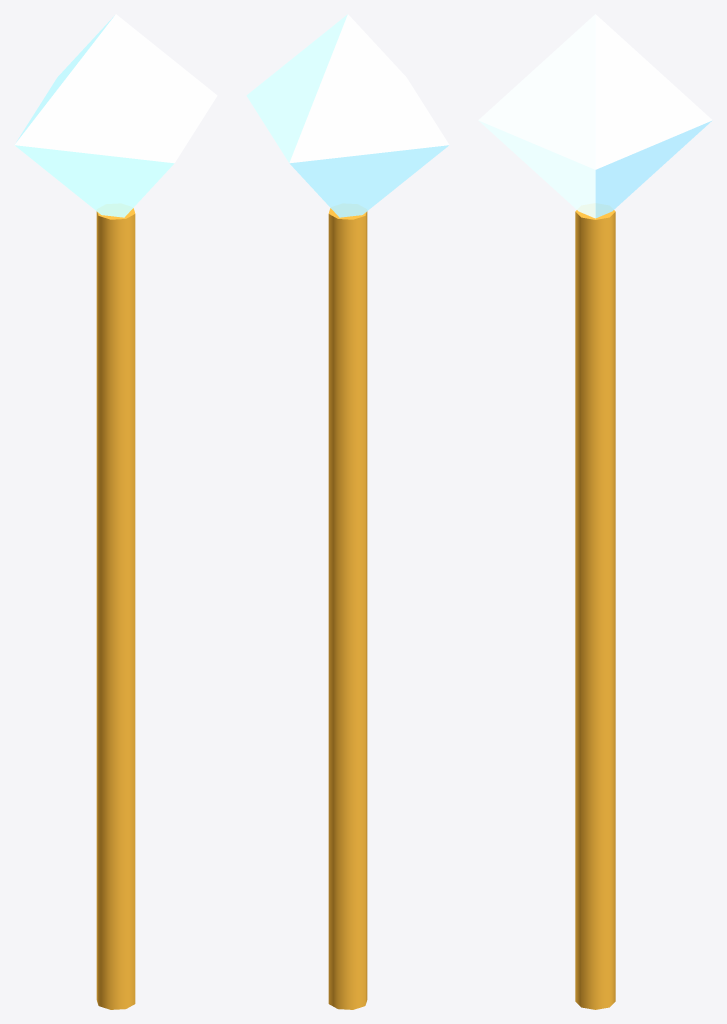
File: crystal-lamp.glb
3 views of the same model, side by side, from view 1: azimuth 30°, elevation 25°; view 2: azimuth 150°, elevation 25°; view 3: azimuth 270°, elevation 25° (orthographic).
Parts seen in each view (by area): view 1: bridges crystal-lamp; view 2: bridges crystal-lamp; view 3: bridges crystal-lamp.
Part boxes in pixels (box(x1,y1,x2,y2)): bridges crystal-lamp: box(14, 14, 217, 1009); bridges crystal-lamp: box(246, 14, 449, 1009); bridges crystal-lamp: box(478, 14, 712, 1009).
Bounding box in the file's own units: 0.7 × 3.25 × 0.7.
